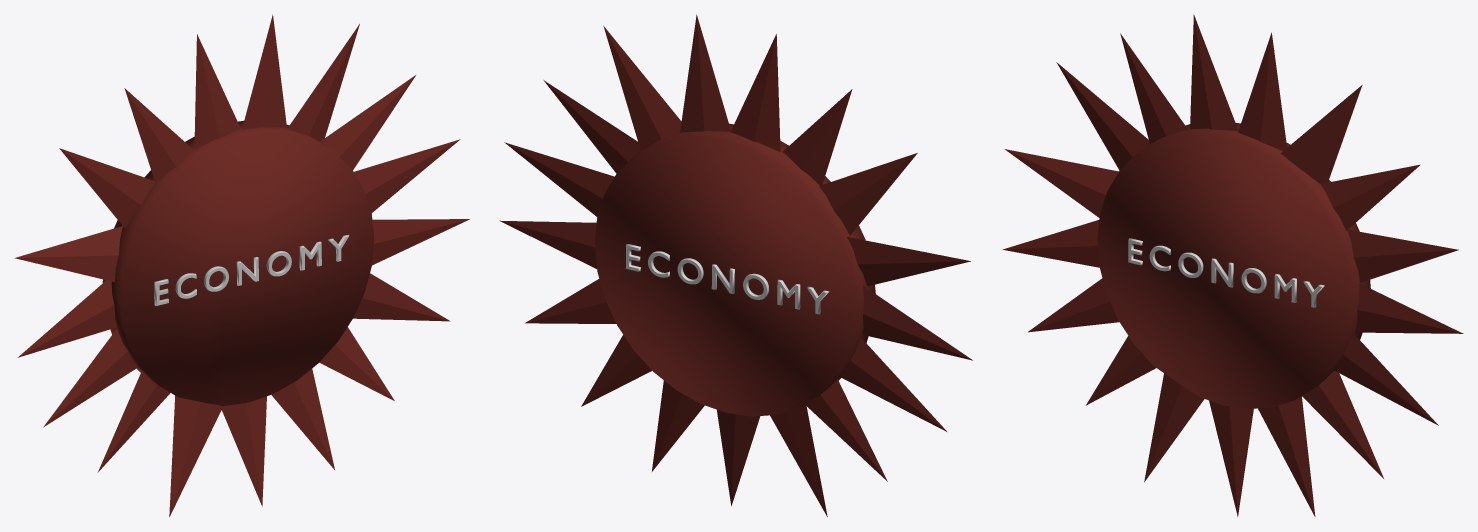
3 views of the same model, side by side, from view 1: azimuth 30°, elevation 25°; view 2: azimuth 150°, elevation 25°; view 3: azimuth 330°, elevation 25° (orthographic). The views are drawn at different scales.
Visible parts, largest first — view 1: Circle, Efficiency Spark; view 2: Circle, Efficiency Spark.001; view 3: Circle, Efficiency Spark.
Part boxes in pixels (x1,y1,x2,y2): Circle: (14,14,469,517); Efficiency Spark: (154,234,349,305); Circle: (499,14,972,516); Efficiency Spark.001: (625,244,829,314); Circle: (1002,14,1463,516); Efficiency Spark: (1128,238,1324,307).
Size of the model in its own units: 15.44 by 15.49 by 1.5.
